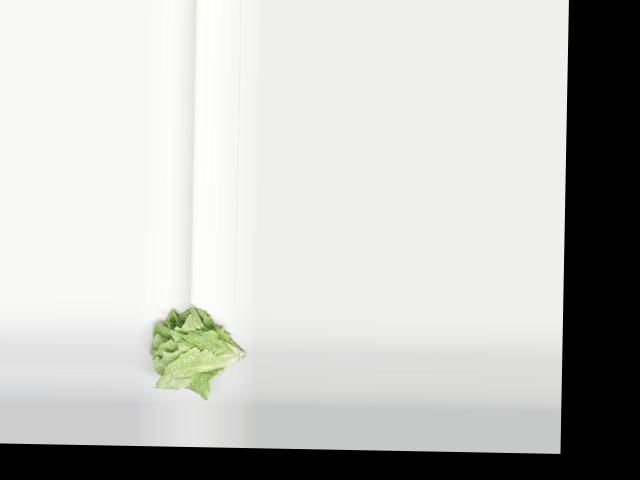lettuce: (144, 300, 253, 398)
